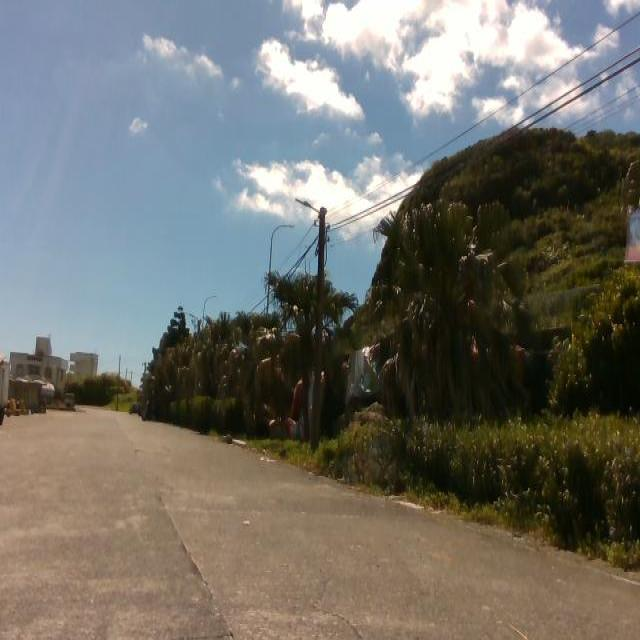pollute: (279, 335, 388, 444)
